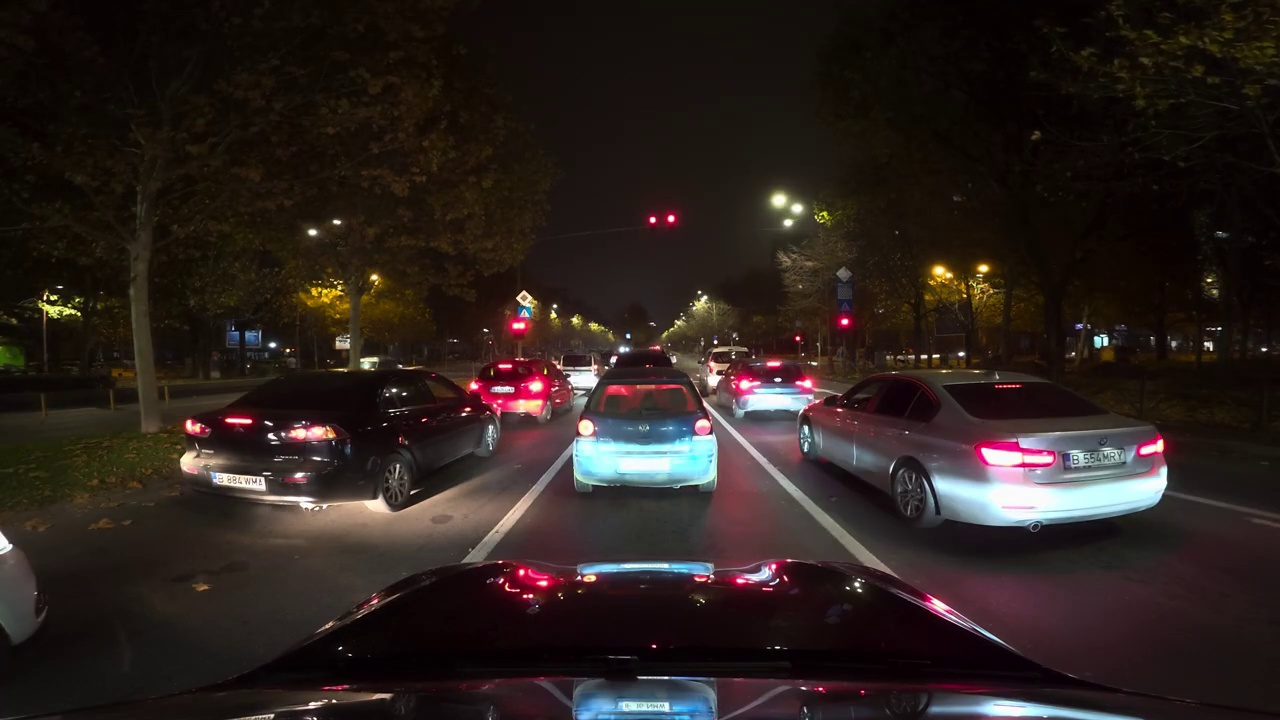acesa: (767, 188, 800, 222), (929, 262, 953, 285)
